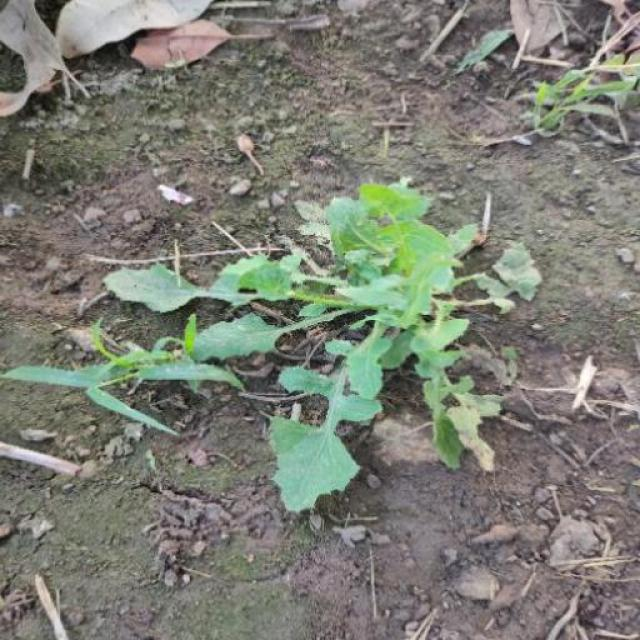weed: (92, 168, 558, 502)
